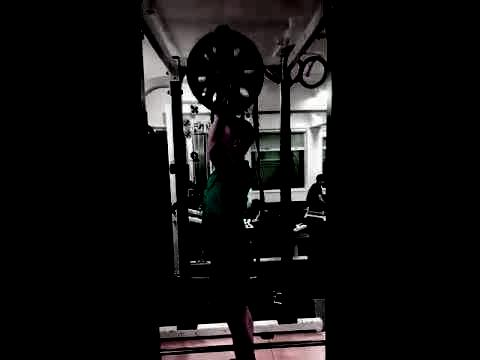Barbell: (212, 24, 239, 52)
